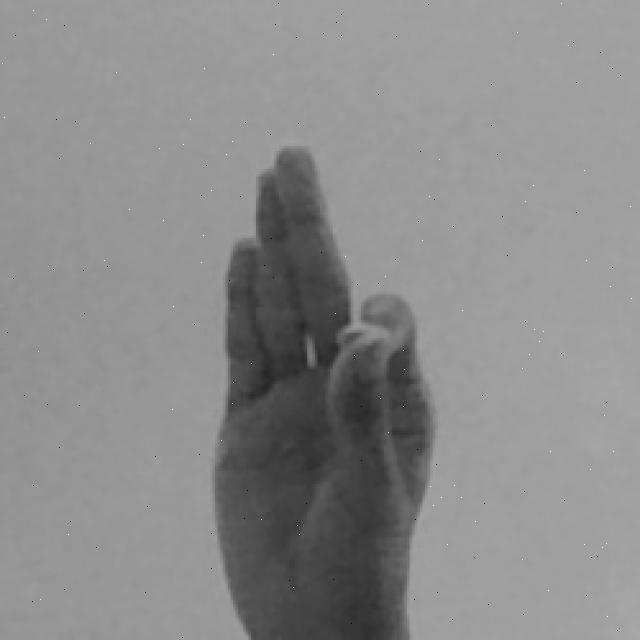F: (204, 142, 441, 640)
